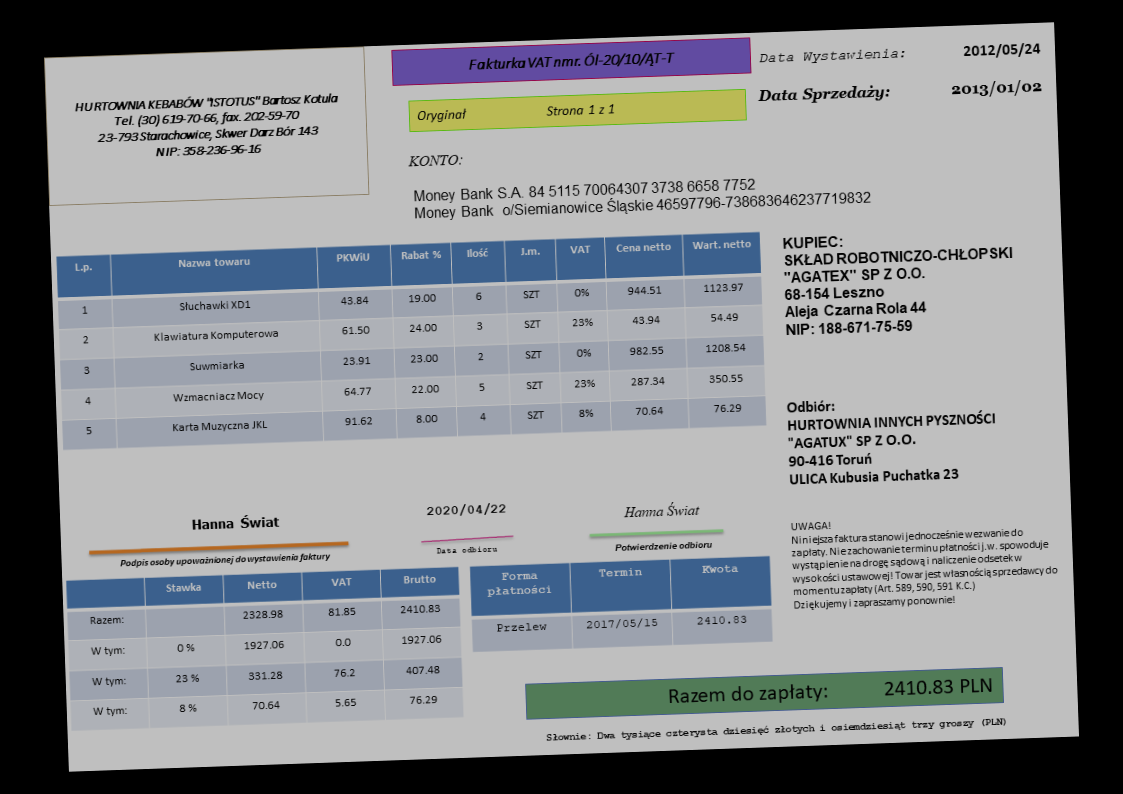Table: (54, 230, 769, 452), (63, 563, 467, 733), (468, 554, 773, 654)
TextBox: (787, 508, 1062, 613), (779, 225, 1017, 339), (410, 167, 874, 223), (783, 390, 1000, 489), (72, 90, 343, 164), (544, 713, 1009, 747), (665, 671, 996, 709), (413, 99, 618, 127), (464, 48, 679, 73), (117, 548, 335, 570), (756, 81, 893, 109), (755, 45, 908, 68), (950, 77, 1048, 101), (187, 511, 283, 533), (422, 498, 509, 522), (959, 39, 1045, 62), (621, 499, 703, 521), (610, 538, 715, 555), (405, 148, 466, 170), (434, 541, 500, 556)
